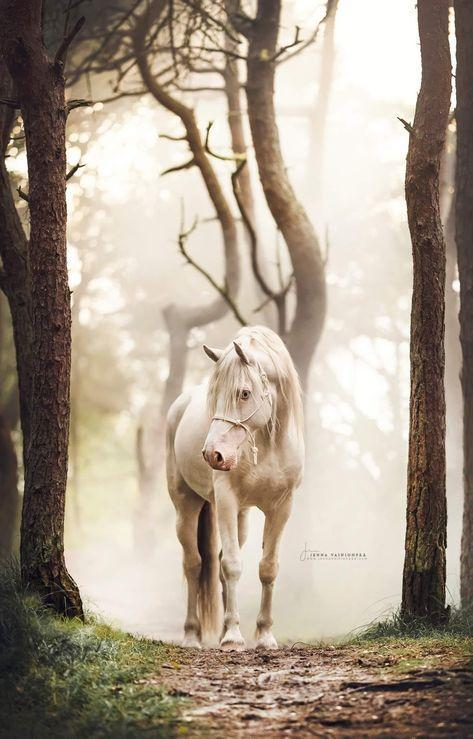horse: (163, 324, 305, 651)
